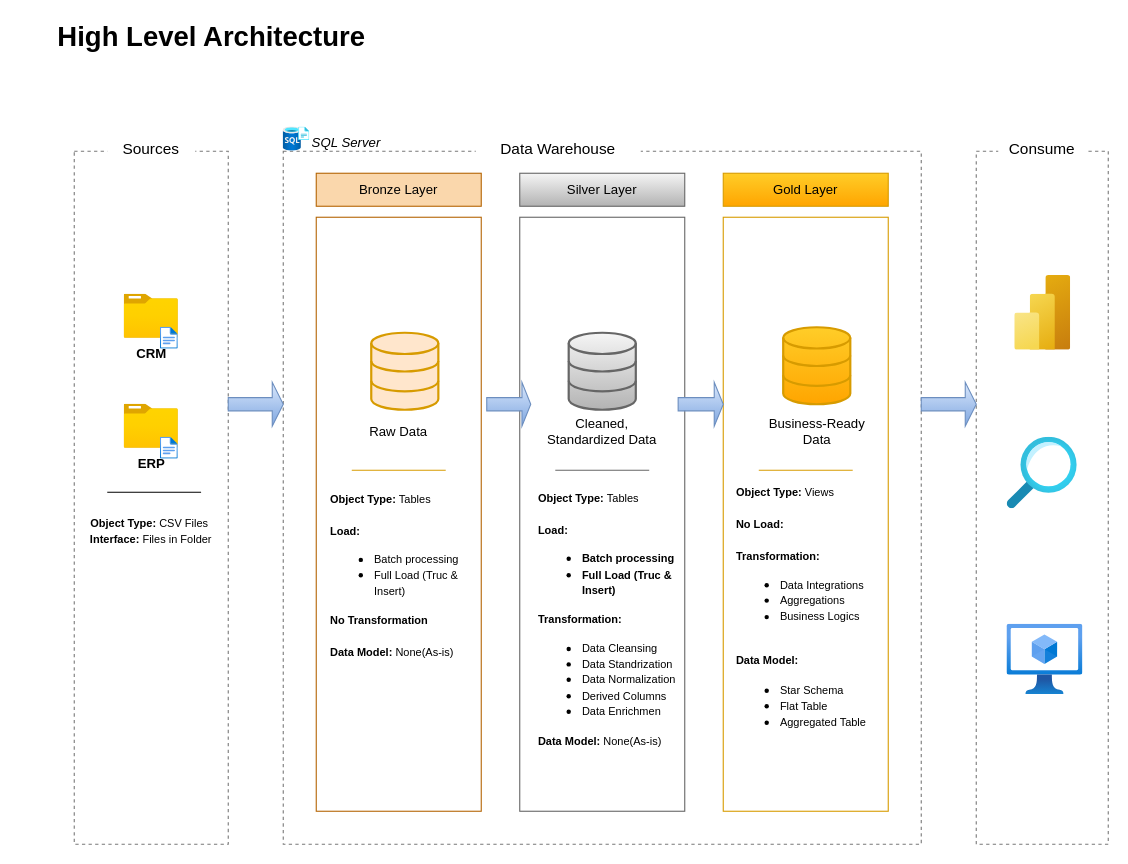
This 1128x864 diagram has some shape labels left out. Each missing label, with the box of its shape:
Ad-Hoc SQL Queries: (1007, 437, 1077, 508)
BI &Reporting: (1014, 275, 1070, 350)
Machine Learning: (1007, 624, 1082, 694)
